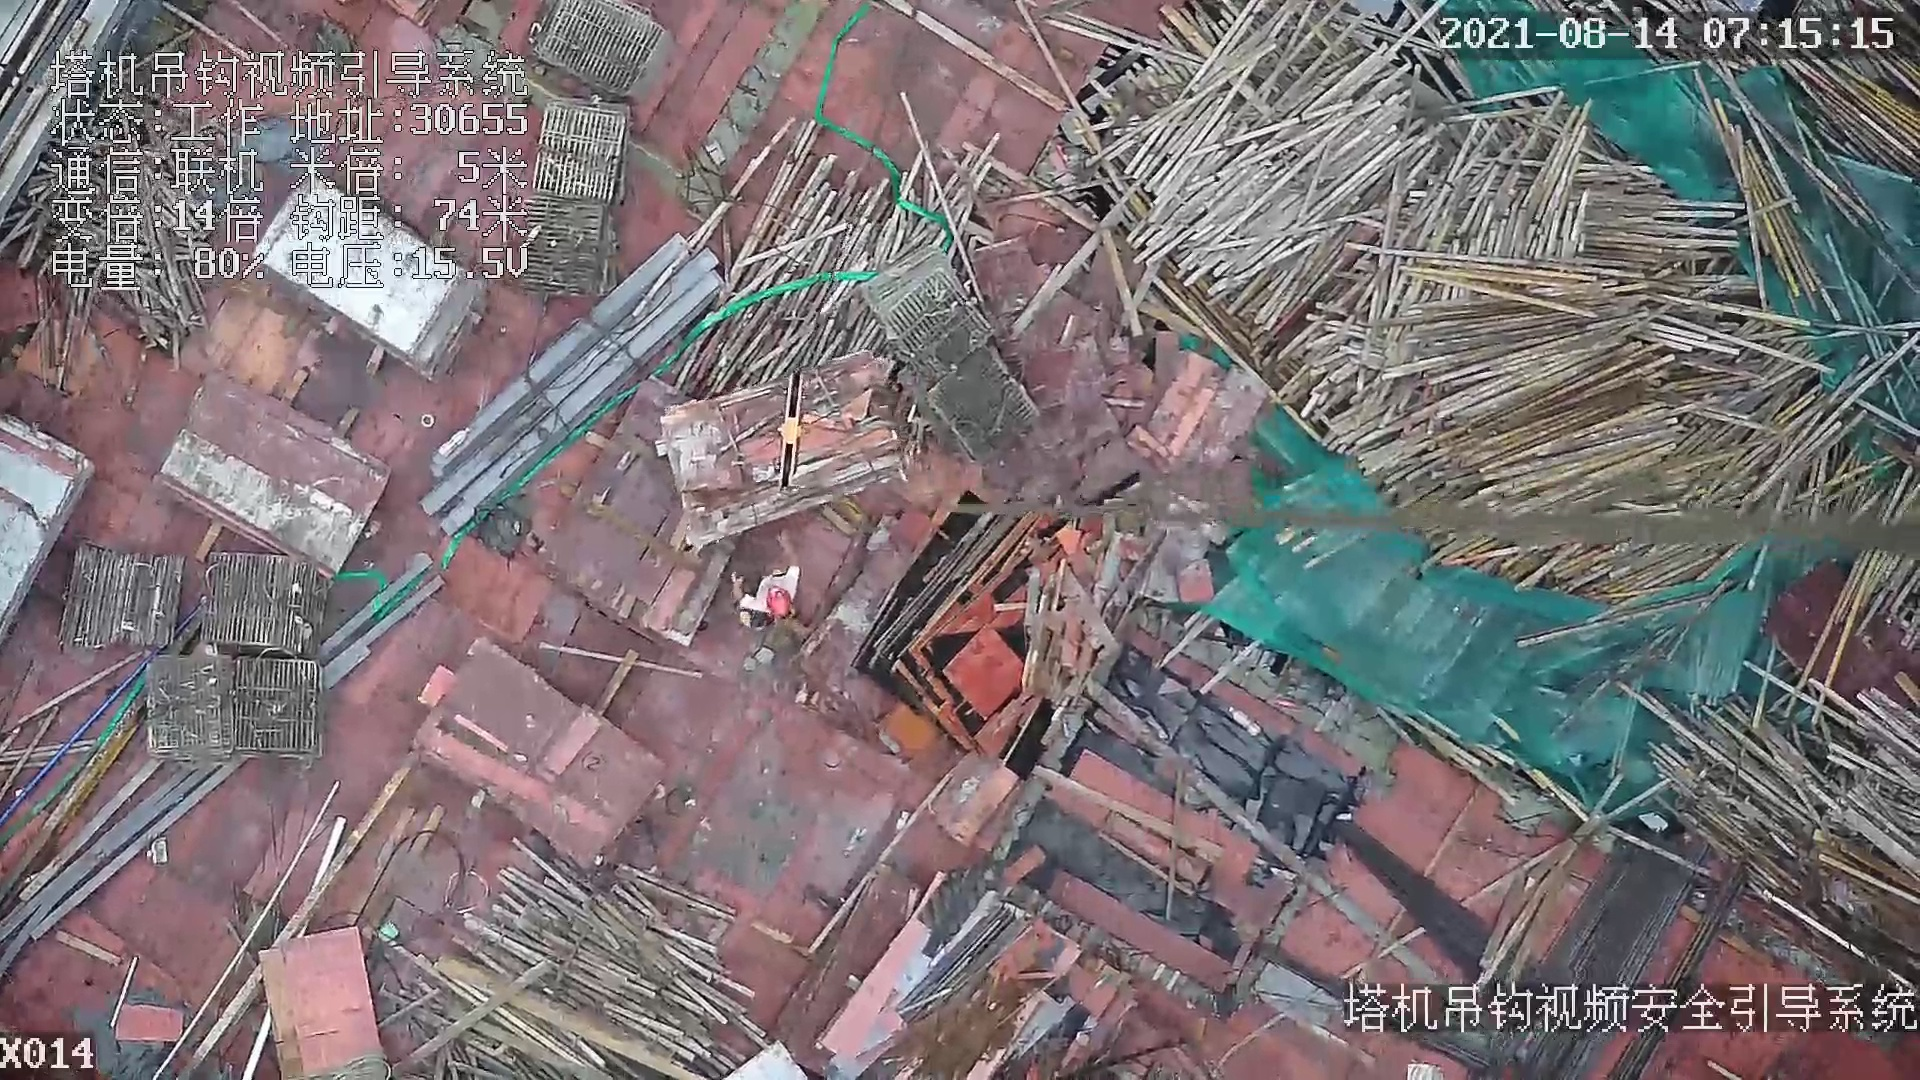helmet: (766, 587, 796, 626)
hook: (765, 358, 813, 497)
person: (720, 556, 808, 633)
